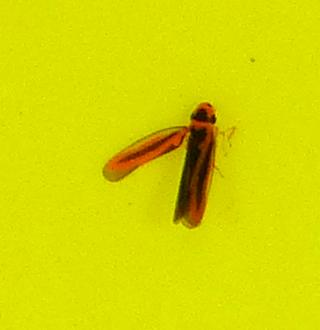Hemiptera: (100, 100, 220, 230)
